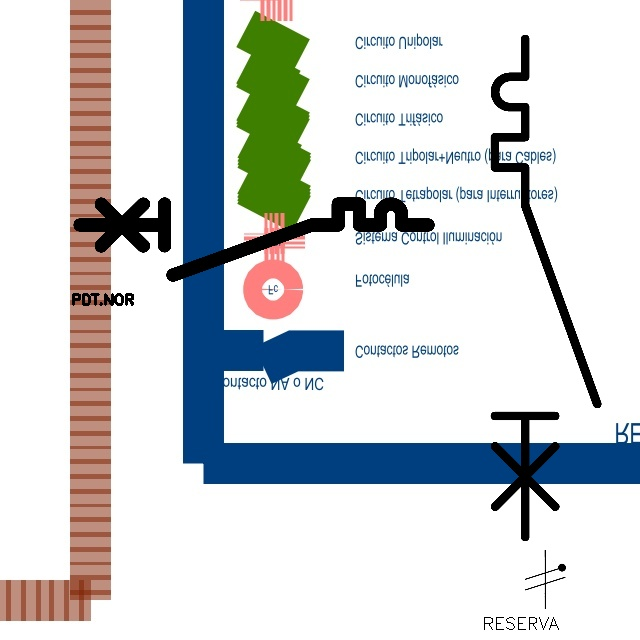interruptor_termomagnetico: (482, 26, 610, 550), (71, 195, 437, 284)
